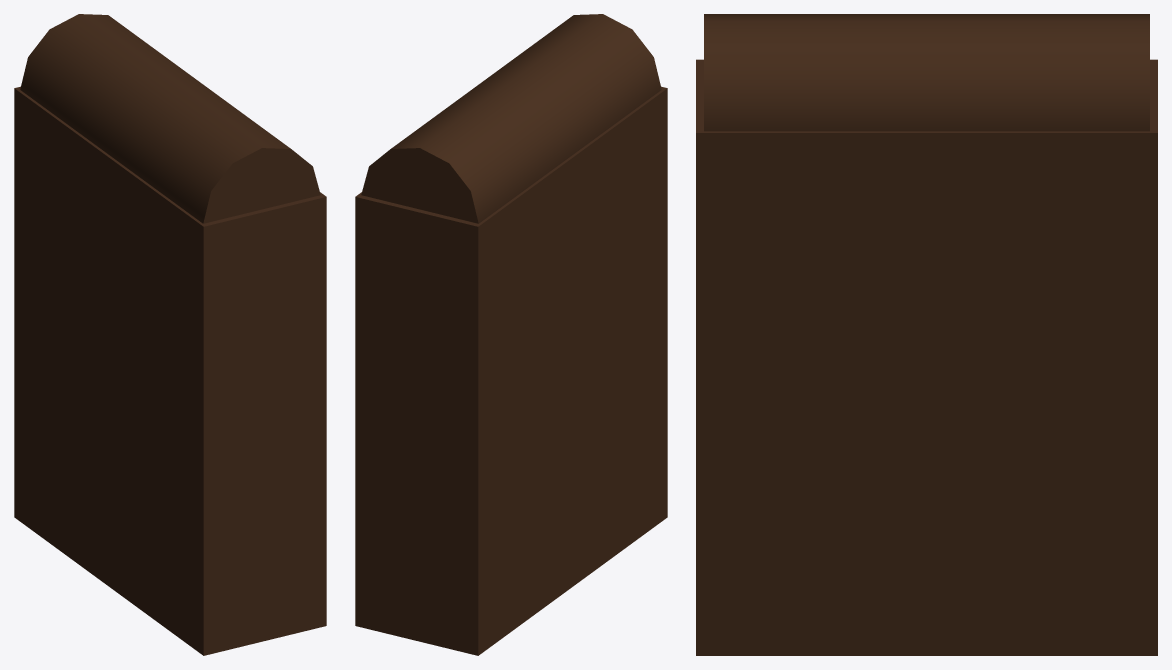
File: bookend_wood.glb
3 renders of one model, left to right at view 1: azimuth 30°, elevation 25°; view 2: azimuth 150°, elevation 25°; view 3: azimuth 270°, elevation 25°, orthographic. The views are drawn at different scales.
Parts seen in each view (by area): view 1: Part0, Part1; view 2: Part0, Part1; view 3: Part0, Part1.
Boxes of the visible parts, bbox=[...] form: Part0: bbox=[14, 86, 326, 655]; Part1: bbox=[20, 14, 320, 223]; Part0: bbox=[355, 86, 667, 655]; Part1: bbox=[361, 14, 661, 223]; Part0: bbox=[696, 59, 1157, 655]; Part1: bbox=[704, 14, 1149, 131].
Size of the model in its own units: 0.045 by 0.1715 by 0.12.
